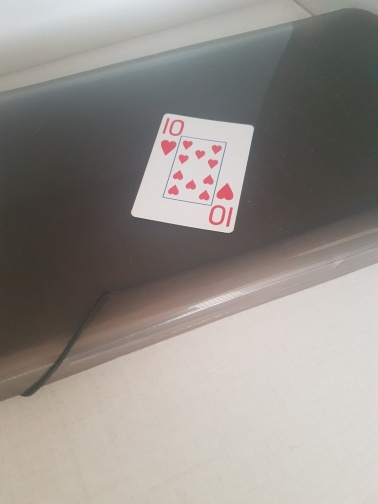ten: (131, 111, 256, 234)
